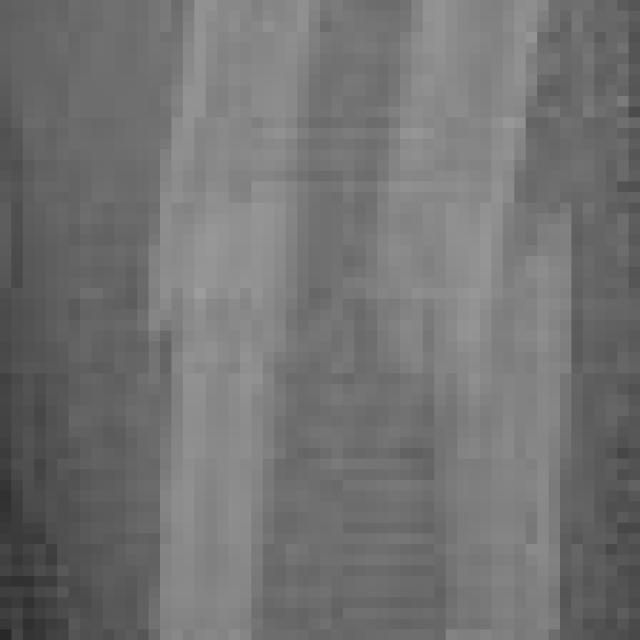fracture: (6, 0, 640, 639)
